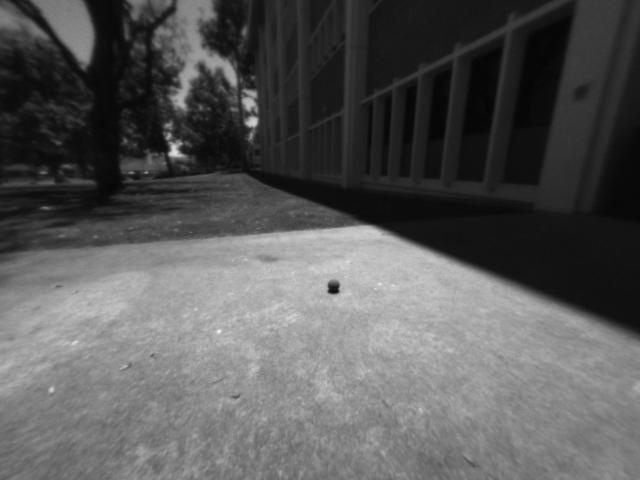dogtoy: (322, 274, 350, 298)
